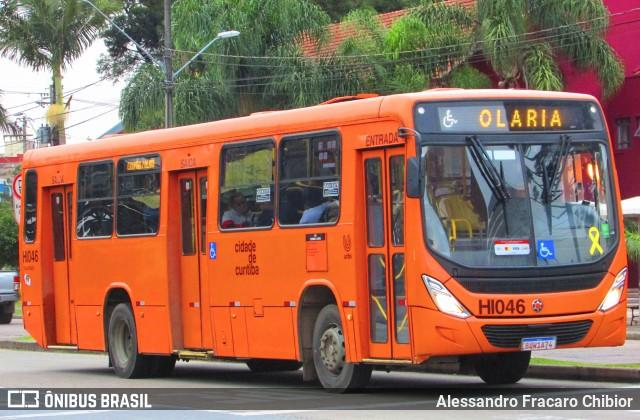OLARIO: (466, 106, 570, 132)
